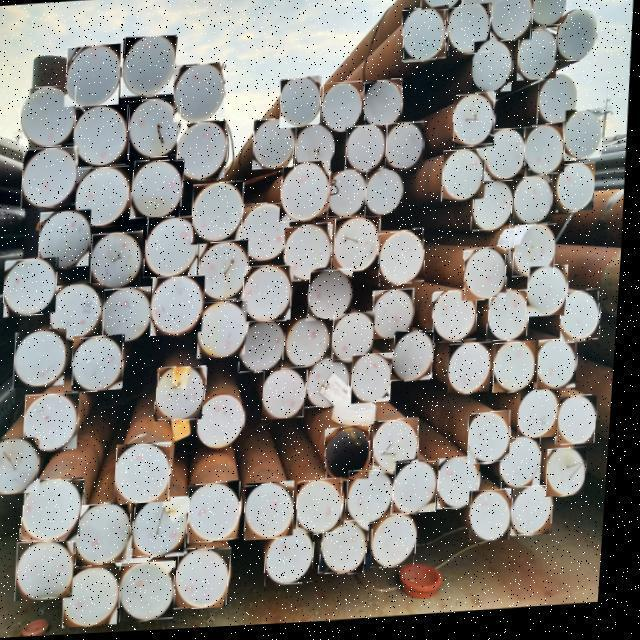pipe: (27, 480, 91, 542), (81, 501, 140, 568), (22, 539, 81, 601), (23, 147, 80, 209), (70, 567, 127, 629), (121, 444, 178, 506), (23, 85, 77, 149), (138, 500, 197, 558), (121, 38, 178, 98), (182, 550, 239, 610), (75, 106, 129, 169), (68, 44, 121, 108), (122, 37, 176, 99), (147, 219, 203, 278), (29, 393, 84, 453), (128, 562, 182, 623), (195, 483, 247, 546), (78, 167, 131, 228), (154, 278, 208, 337), (175, 64, 226, 126), (8, 257, 60, 317), (131, 99, 182, 160), (196, 183, 246, 245), (93, 232, 146, 290), (18, 330, 71, 388), (42, 210, 94, 269), (242, 205, 294, 264), (202, 243, 252, 304), (133, 162, 186, 219), (178, 124, 229, 183), (282, 166, 333, 225), (77, 335, 128, 394), (246, 269, 297, 325), (54, 284, 105, 340), (252, 484, 300, 543), (159, 369, 212, 422), (202, 303, 251, 360), (273, 531, 321, 589), (289, 226, 336, 285), (381, 232, 428, 290), (331, 428, 377, 487), (326, 525, 376, 578), (107, 288, 155, 343), (336, 220, 383, 276), (203, 396, 250, 452), (304, 481, 349, 539), (0, 437, 45, 495), (352, 475, 401, 528), (403, 9, 447, 67), (447, 3, 491, 60), (378, 519, 425, 572), (380, 422, 424, 478), (243, 323, 291, 374), (437, 293, 481, 348), (467, 251, 510, 306), (399, 466, 444, 518), (312, 272, 356, 325), (290, 321, 334, 373), (516, 230, 560, 282), (453, 347, 497, 398), (268, 370, 311, 422), (556, 15, 599, 67), (523, 392, 565, 445), (444, 153, 486, 206), (564, 295, 605, 349), (526, 128, 567, 182), (455, 98, 496, 152), (491, 296, 535, 346), (444, 462, 487, 513), (472, 46, 514, 98), (475, 416, 516, 469), (487, 132, 527, 186), (396, 335, 440, 384), (376, 293, 419, 343), (336, 316, 379, 366), (498, 346, 540, 397), (530, 271, 572, 322), (281, 79, 322, 131), (477, 495, 518, 547), (518, 33, 558, 86), (311, 363, 355, 411), (254, 122, 297, 171), (474, 186, 516, 236), (507, 442, 547, 494), (489, 0, 534, 46), (518, 492, 560, 541), (561, 402, 603, 451), (322, 85, 363, 135), (357, 356, 396, 408), (565, 115, 604, 167), (365, 82, 404, 133), (539, 79, 578, 130), (553, 453, 593, 502), (543, 345, 582, 395), (558, 169, 598, 217), (517, 181, 555, 231), (347, 128, 387, 175), (297, 127, 336, 175), (367, 171, 406, 219), (330, 174, 369, 221), (387, 126, 425, 174), (527, 0, 567, 34), (421, 0, 464, 16), (463, 0, 503, 10)
